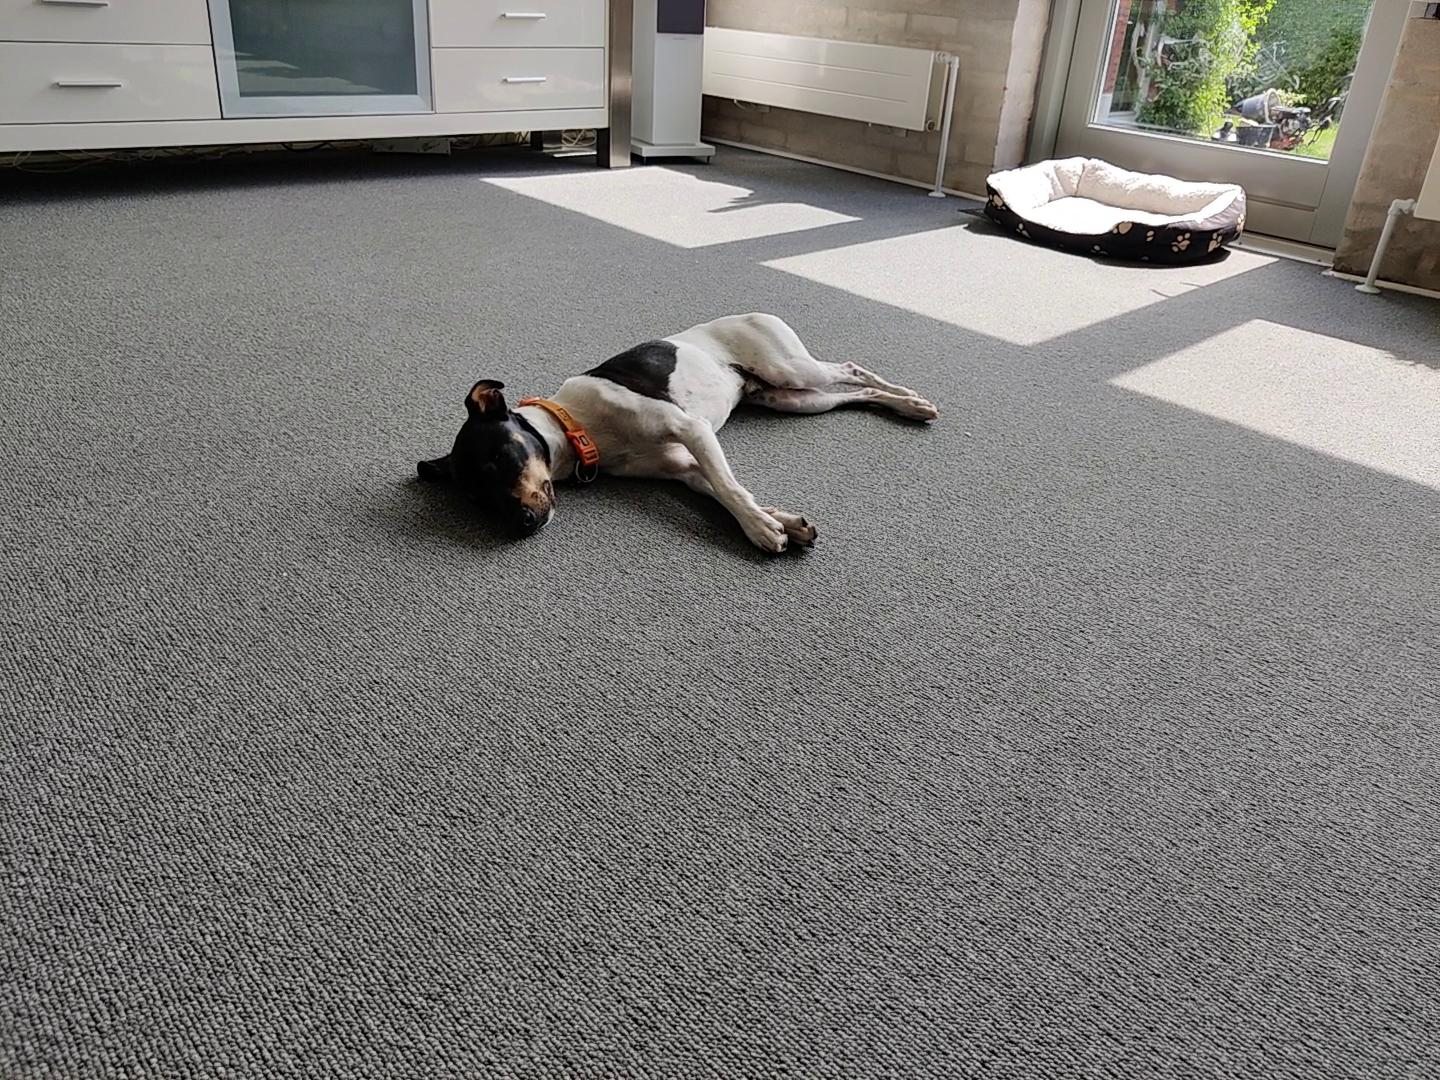Dog: (408, 307, 945, 558)
